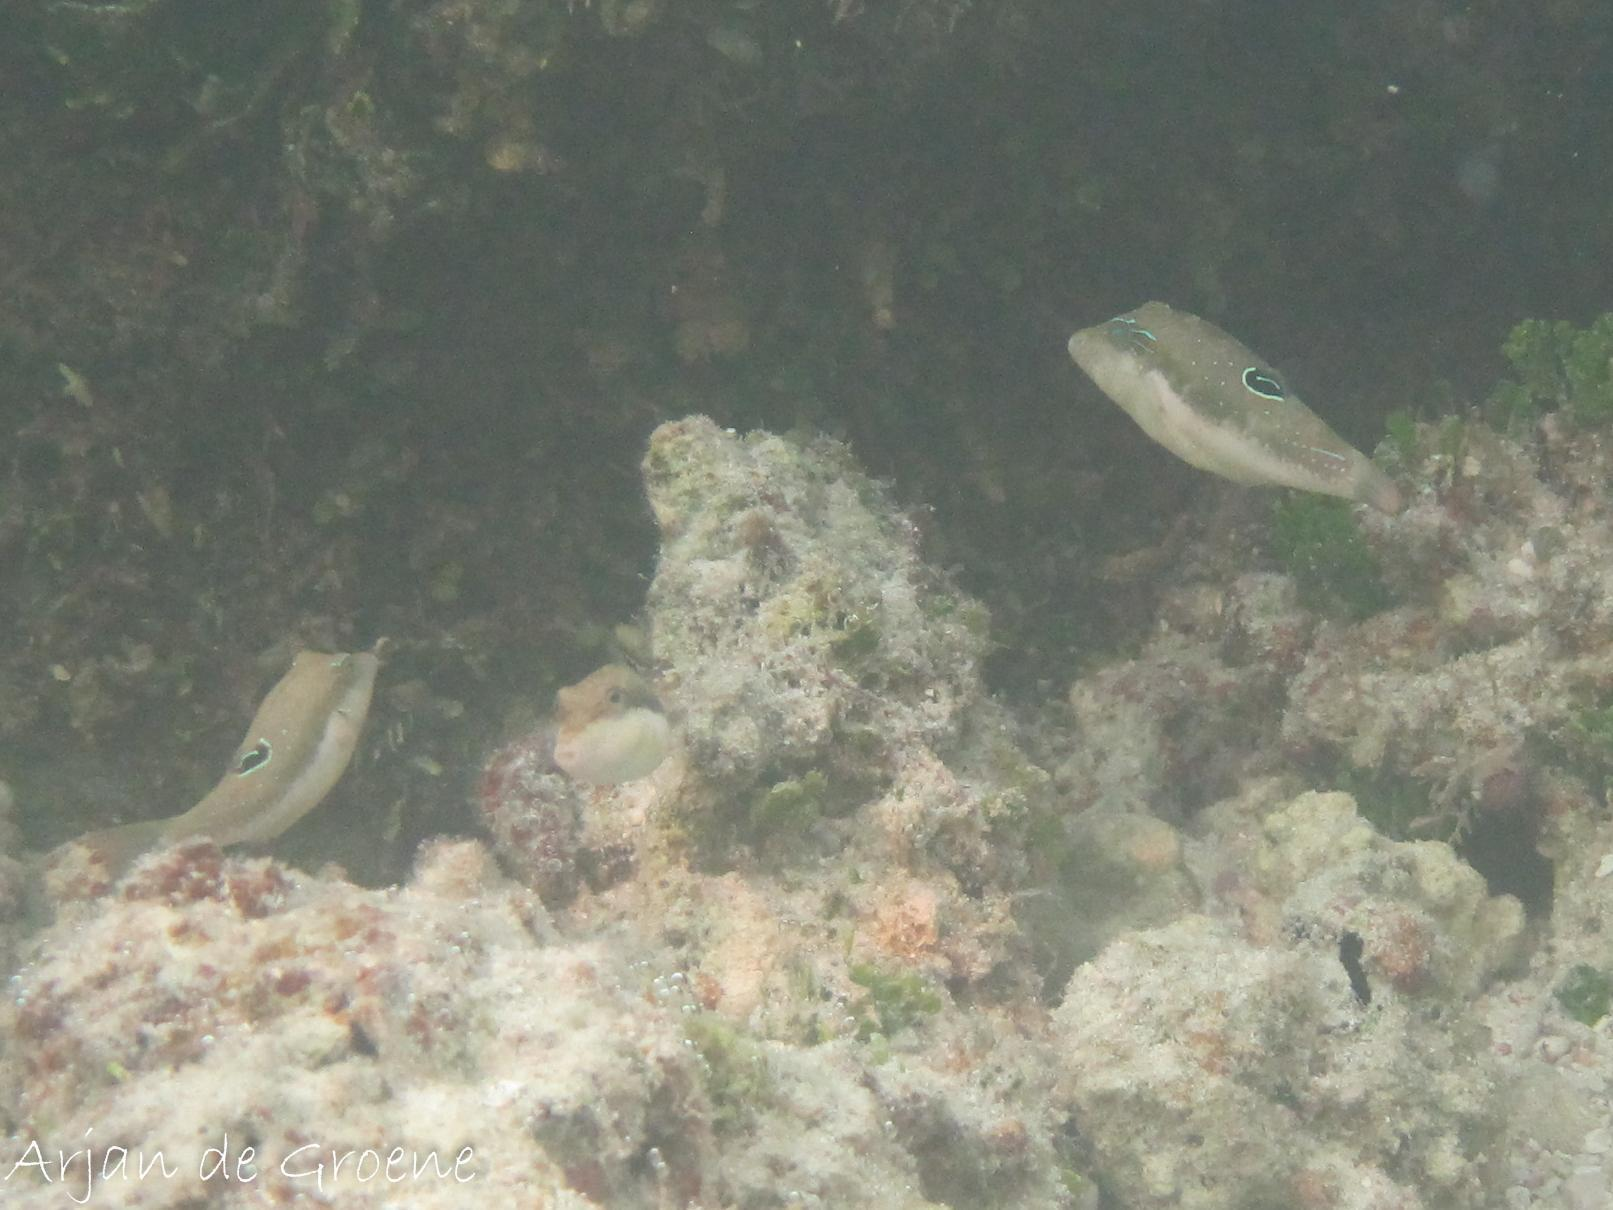Fish: (955, 239, 1460, 599), (92, 568, 446, 949)
